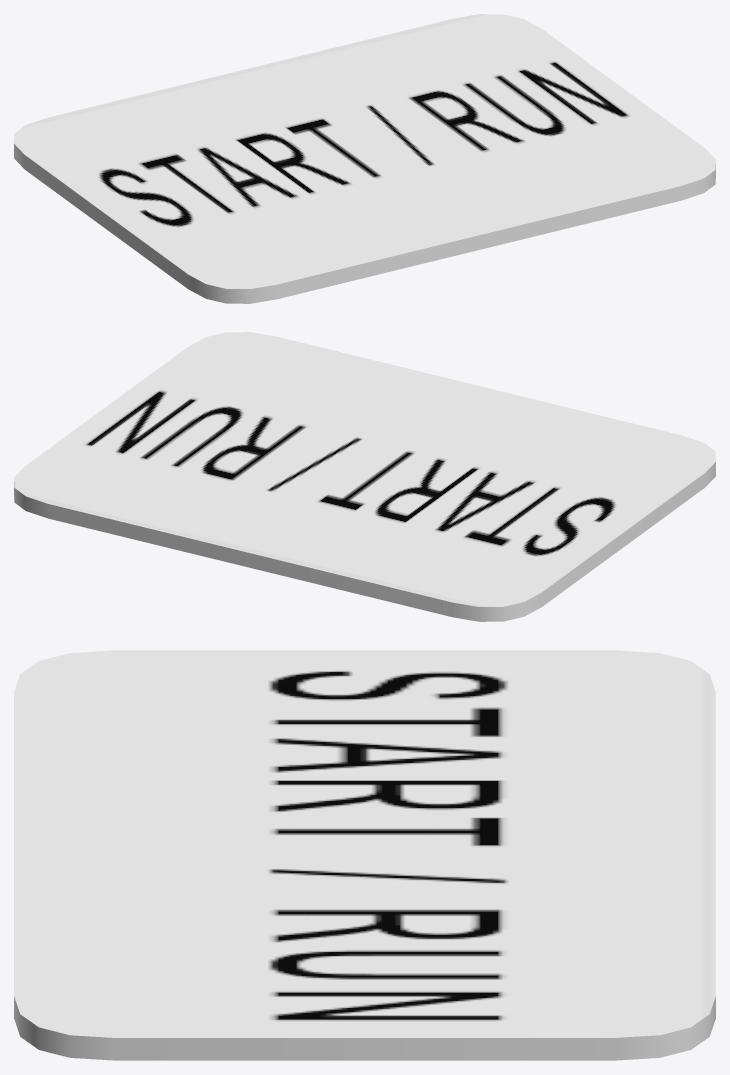
File: buttonLabel_start.fbx
3 views of the same model, one above another, from view 1: azimuth 30°, elevation 25°; view 2: azimuth 150°, elevation 25°; view 3: azimuth 270°, elevation 25° (orthographic). The views are drawn at different scales.
Parts seen in each view (by area): view 1: buttonLabel_Startrun; view 2: buttonLabel_Startrun; view 3: buttonLabel_Startrun.
Boxes of the visible parts, x1,y1,x2,y2 form: buttonLabel_Startrun: [14, 14, 715, 303]; buttonLabel_Startrun: [14, 332, 715, 621]; buttonLabel_Startrun: [14, 650, 715, 1060].
Bounding box in the file's own units: 1.84 × 0.05 × 1.41.
1 material, 1 textured.
